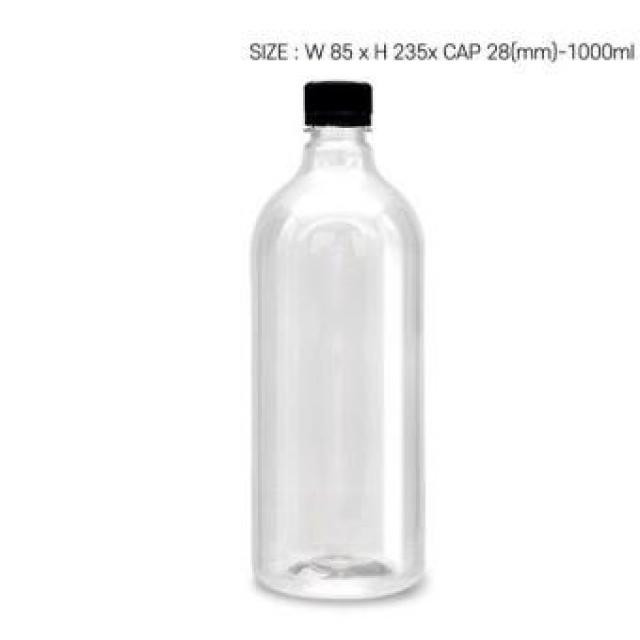bottle: (223, 56, 446, 619)
